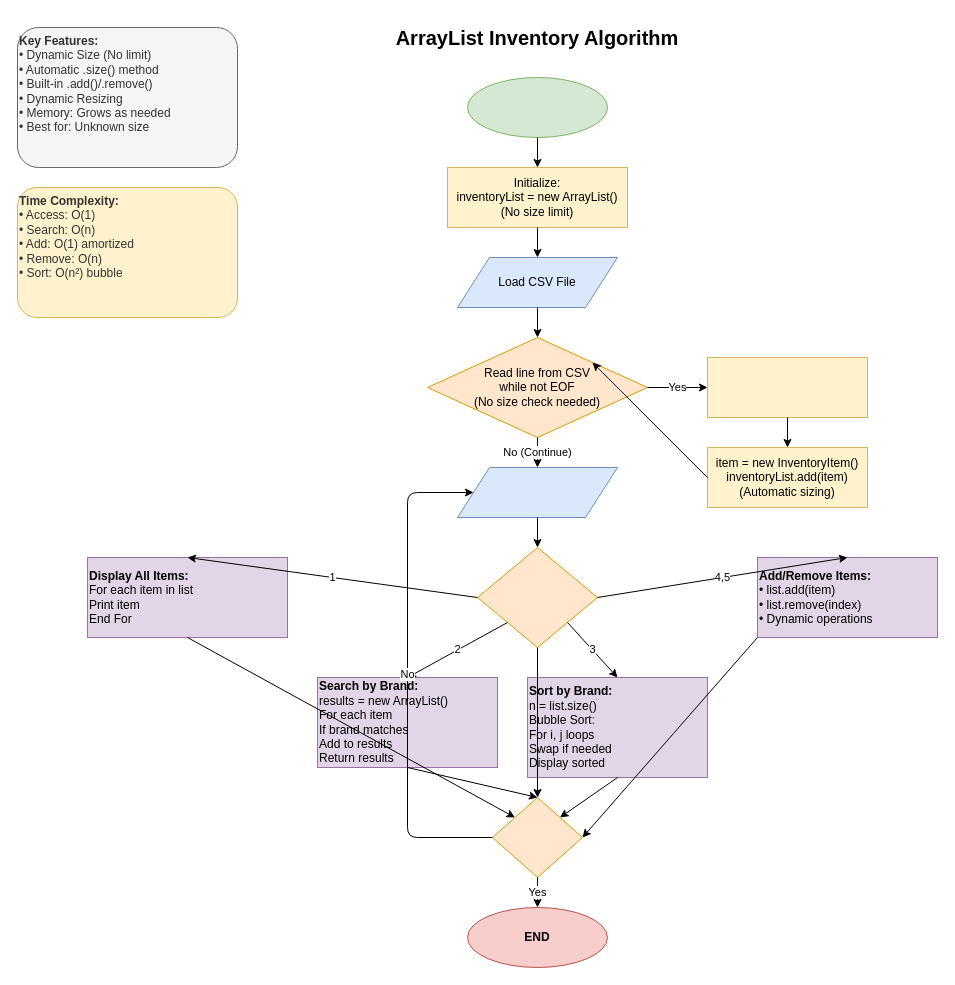
The diagram is 955 pixels wide and 985 high, and some of its shapes have lost their labels. The centre of each missing label's shape, as x and y in pixels:
choice == 6?: (x=537, y=837)
Display Menu Get User Choice: (x=537, y=492)
Parse CSV line data = line.split(",") Extract 5 fields: (x=787, y=387)
START: (x=537, y=107)
Switch (choice): (x=537, y=597)
